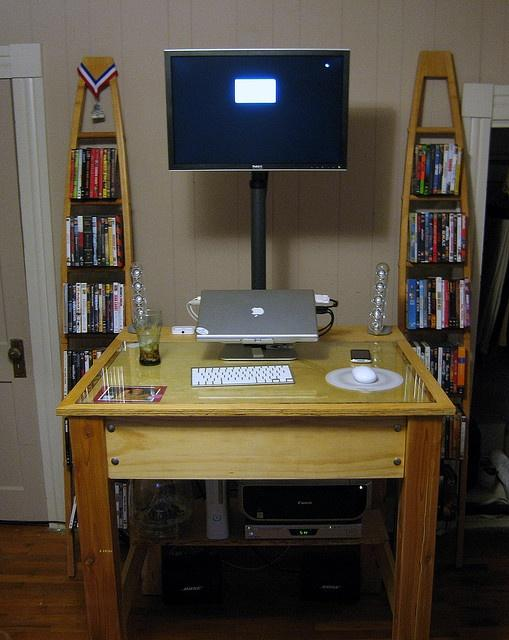AIO PC-Monitor-TV: (163, 47, 350, 172)
Meja: (54, 324, 456, 504)
